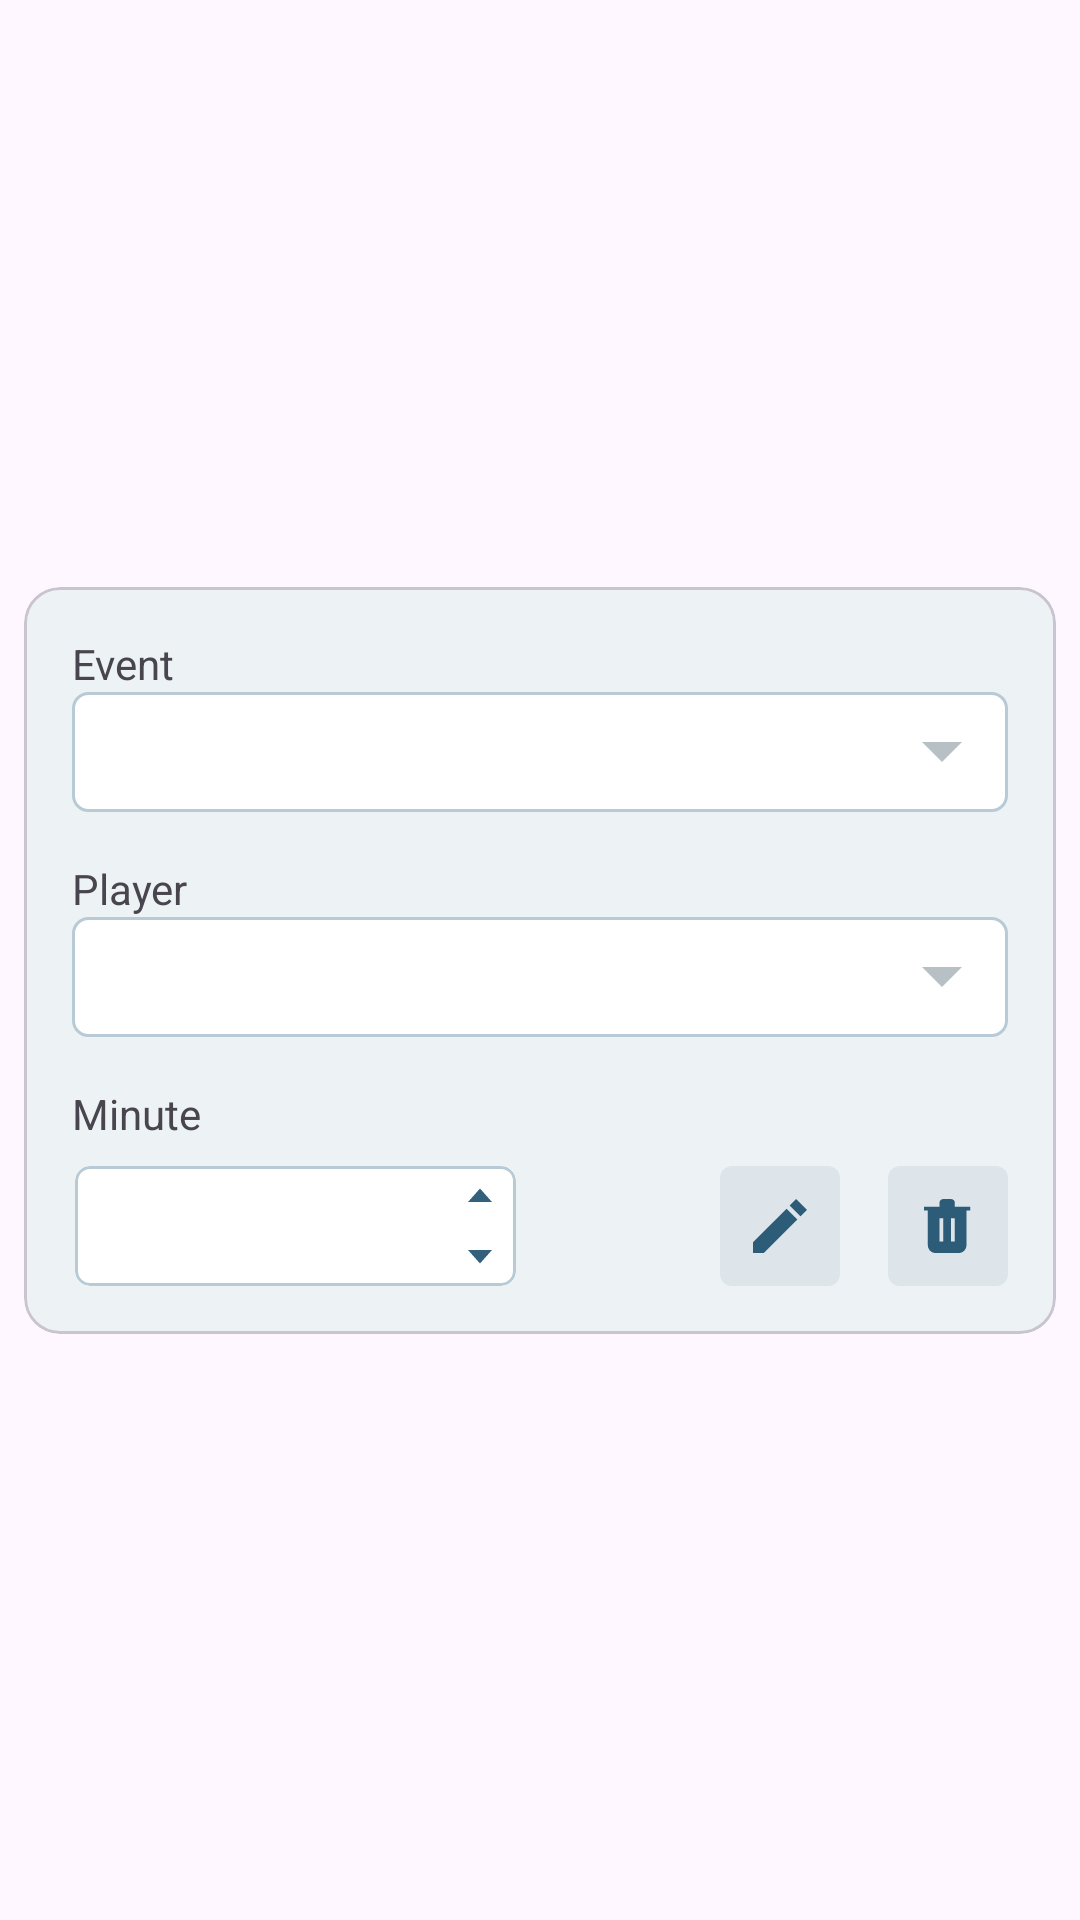

Icon click points for this 1080x1920 phone screenshot, format [x,y]:
delete: [947,1226]
edit: [780,1226]
